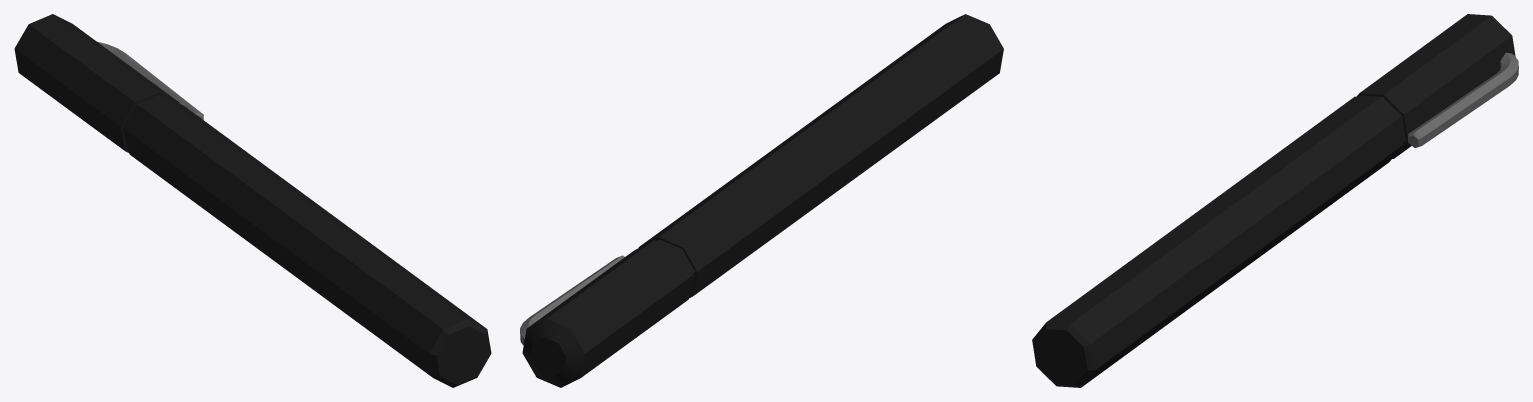
The model's file is Lapiz13.fbx.
3 views of the same model, side by side, from view 1: azimuth 30°, elevation 25°; view 2: azimuth 150°, elevation 25°; view 3: azimuth 330°, elevation 25° (orthographic).
Parts seen in each view (by area): view 1: Lapiz13; view 2: Lapiz13; view 3: Lapiz13.
Boxes of the visible parts, x1,y1,x2,y2 form: Lapiz13: [14, 14, 491, 387]; Lapiz13: [520, 14, 1003, 387]; Lapiz13: [1032, 14, 1518, 387].
Bounding box in the file's own units: 2.08 × 1.55 × 18.01.
